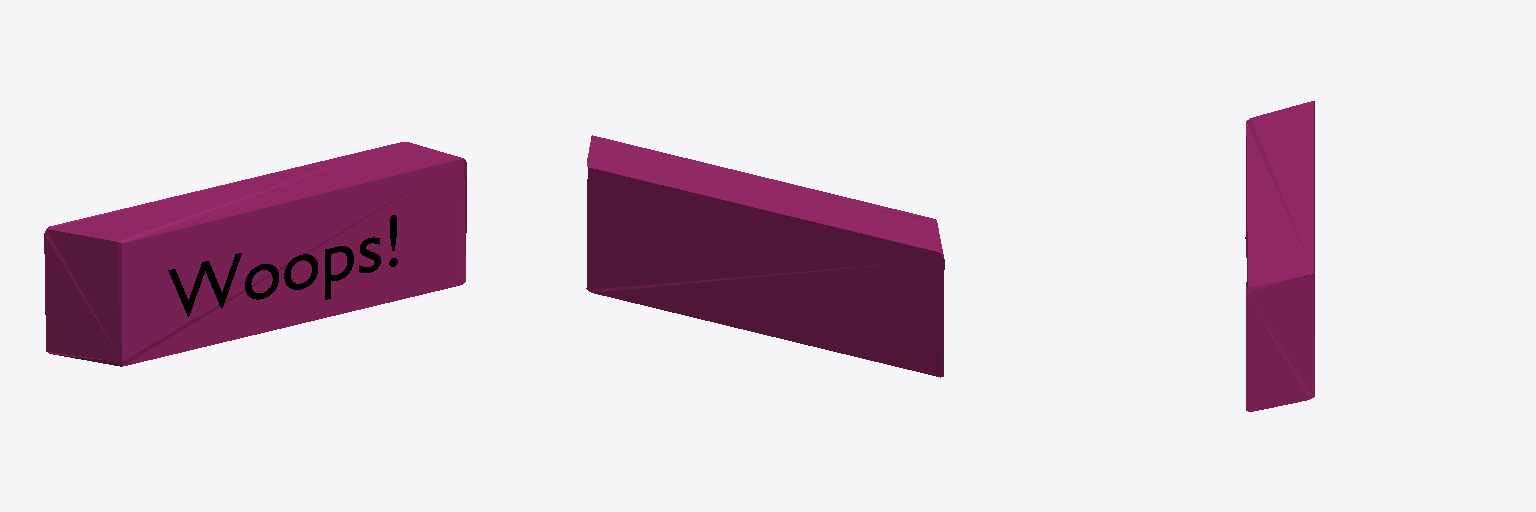
Rendered from eraser_ucsd.obj.
The picture shows the model from 3 angles: view 1: azimuth 30°, elevation 25°; view 2: azimuth 150°, elevation 25°; view 3: azimuth 270°, elevation 25°; orthographic projection.
Visible parts, largest first — view 1: Eraser_Cube, Text_Woops!; view 2: Eraser_Cube; view 3: Eraser_Cube.
Part boxes in pixels (bbox=[...]): Eraser_Cube: bbox=[44, 142, 466, 366]; Text_Woops!: bbox=[168, 215, 397, 316]; Eraser_Cube: bbox=[586, 135, 944, 377]; Eraser_Cube: bbox=[1245, 101, 1314, 411].
Bounding box in the file's own units: 51.88 × 16.01 × 8.17.